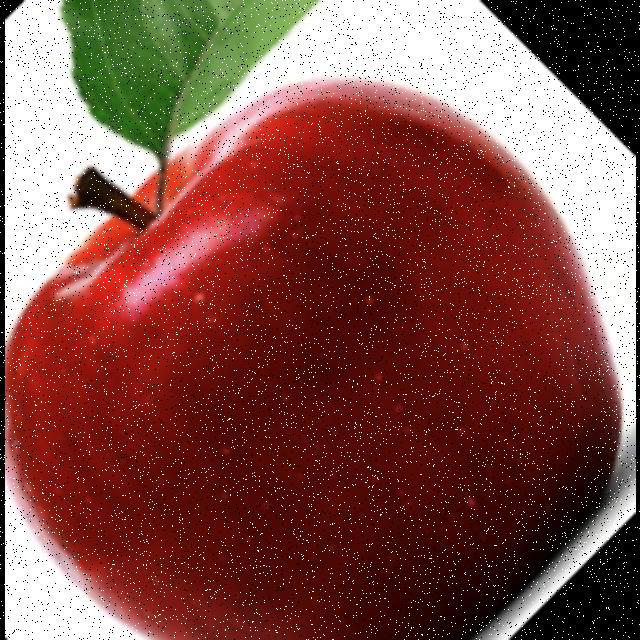Apel Segar: (4, 67, 625, 640)
